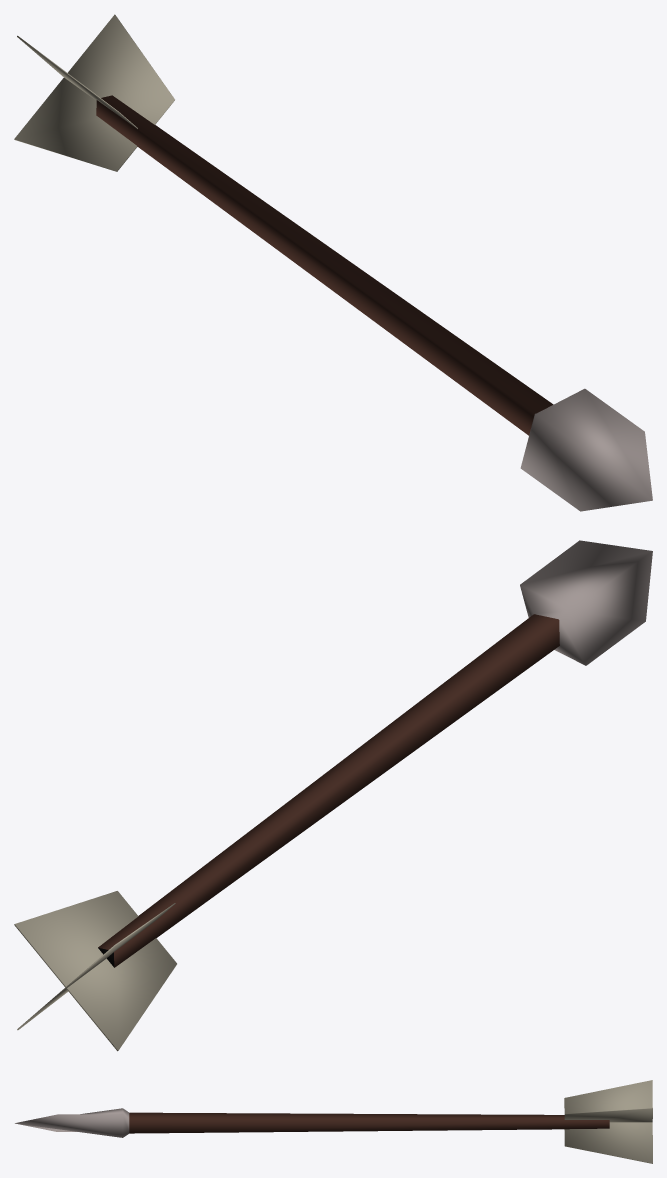
File: Arrow_White.fbx
The picture shows the model from 3 angles, top to bottom: view 1: azimuth 30°, elevation 25°; view 2: azimuth 150°, elevation 25°; view 3: azimuth 270°, elevation 25°; orthographic projection. The views are drawn at different scales.
Parts seen in each view (by area): view 1: Arrow_White; view 2: Arrow_White; view 3: Arrow_White.
Part boxes in pixels (x1,y1,x2,y2): Arrow_White: [14, 14, 652, 511]; Arrow_White: [14, 540, 652, 1051]; Arrow_White: [15, 1080, 652, 1163].
Bounding box in the file's own units: 0.0879 × 0.0879 × 0.8677.
